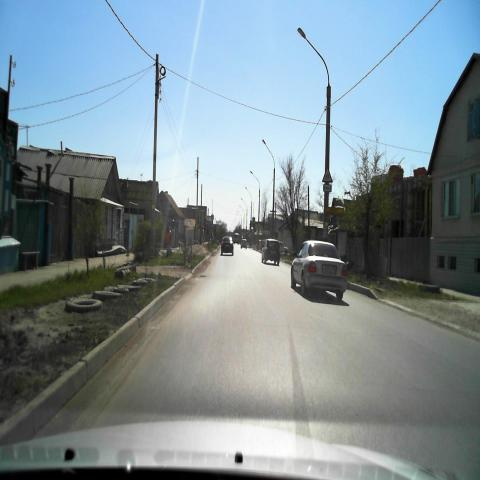1_23: (322, 168, 332, 183)
